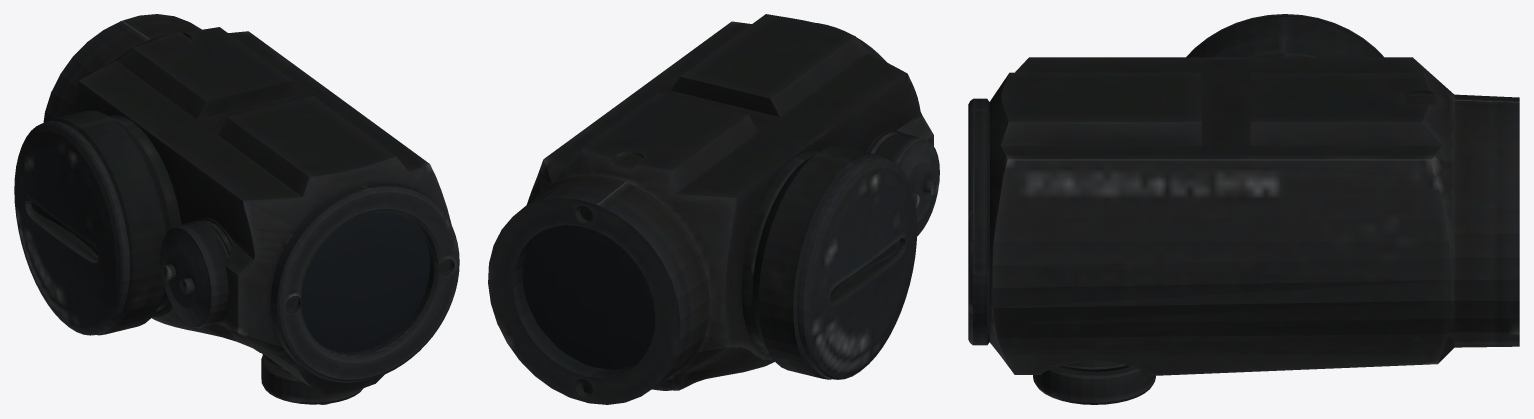
3 renders of one model, left to right at view 1: azimuth 30°, elevation 25°; view 2: azimuth 150°, elevation 25°; view 3: azimuth 270°, elevation 25°, orthographic. The views are drawn at different scales.
Parts seen in each view (by area): view 1: TW_58d399e486f77442e0016fe7_PZ_Import; view 2: TW_58d399e486f77442e0016fe7_PZ_Import; view 3: TW_58d399e486f77442e0016fe7_PZ_Import.
Part boxes in pixels (box(x1,y1,x2,y2)): TW_58d399e486f77442e0016fe7_PZ_Import: box(14, 14, 459, 404); TW_58d399e486f77442e0016fe7_PZ_Import: box(488, 14, 939, 404); TW_58d399e486f77442e0016fe7_PZ_Import: box(968, 14, 1519, 404).
Size of the model in its own units: 0.0235 by 0.0354 by 0.0211.
Materials: 1 (1 with a texture image).
